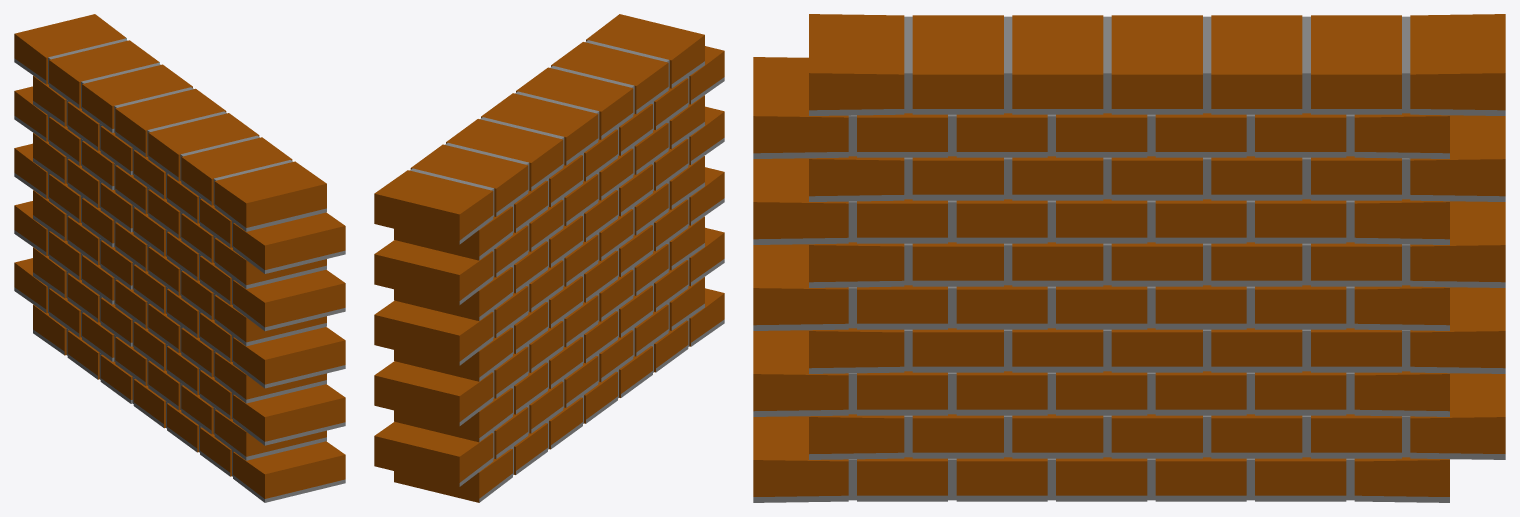
File: obstaculoALTO.fbx
3 renders of one model, left to right at view 1: azimuth 30°, elevation 25°; view 2: azimuth 150°, elevation 25°; view 3: azimuth 270°, elevation 25°, orthographic. The views are drawn at different scales.
Visible parts, largest first — view 1: Cube.001; view 2: Cube.001; view 3: Cube.001.
Boxes of the visible parts, <box> form: Cube.001: <box>14,14,345,502</box>; Cube.001: <box>374,14,724,502</box>; Cube.001: <box>753,14,1505,502</box>.
Size of the model in its own units: 40.18 by 136 by 216.
Materials: 1 (1 with a texture image).
